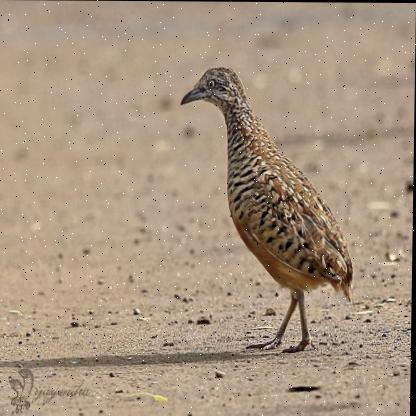Burung: (177, 66, 355, 353)
